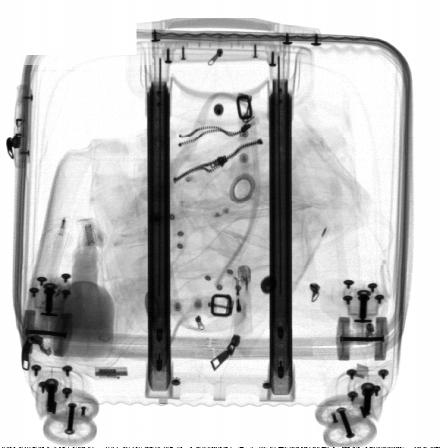Lighter: (230, 265, 253, 337)
